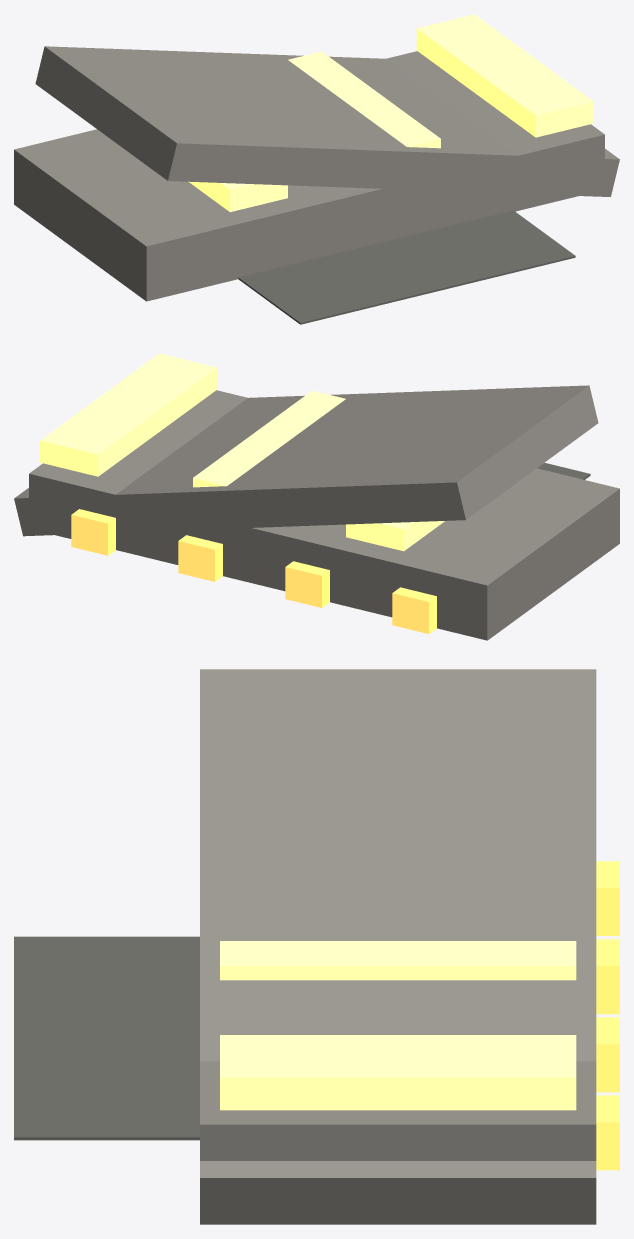
Rendered from vector_shift_logistics_hub.glb.
3 renders of one model, top to bottom at view 1: azimuth 30°, elevation 25°; view 2: azimuth 150°, elevation 25°; view 3: azimuth 270°, elevation 25°, orthographic. The views are drawn at different scales.
Visible parts, largest first — view 1: vector_shift_logistics_hub; view 2: vector_shift_logistics_hub; view 3: vector_shift_logistics_hub.
Part boxes in pixels (x1,y1,x2,y2): vector_shift_logistics_hub: (14, 14, 619, 324); vector_shift_logistics_hub: (14, 353, 619, 640); vector_shift_logistics_hub: (14, 669, 619, 1224).
Bounding box in the file's own units: 113 × 36.51 × 84.
